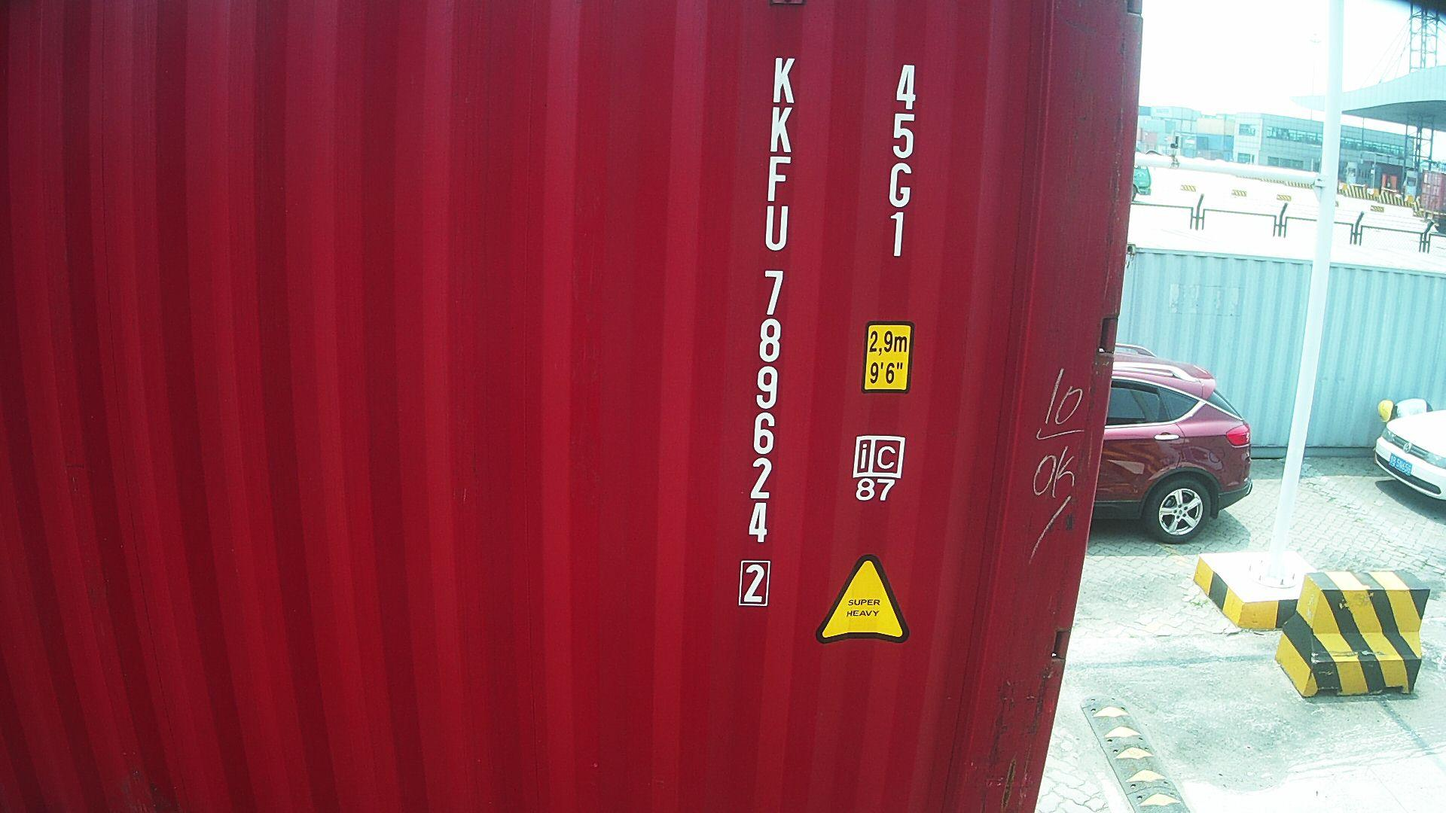container-numbers: (736, 50, 797, 613), (879, 59, 926, 263)
